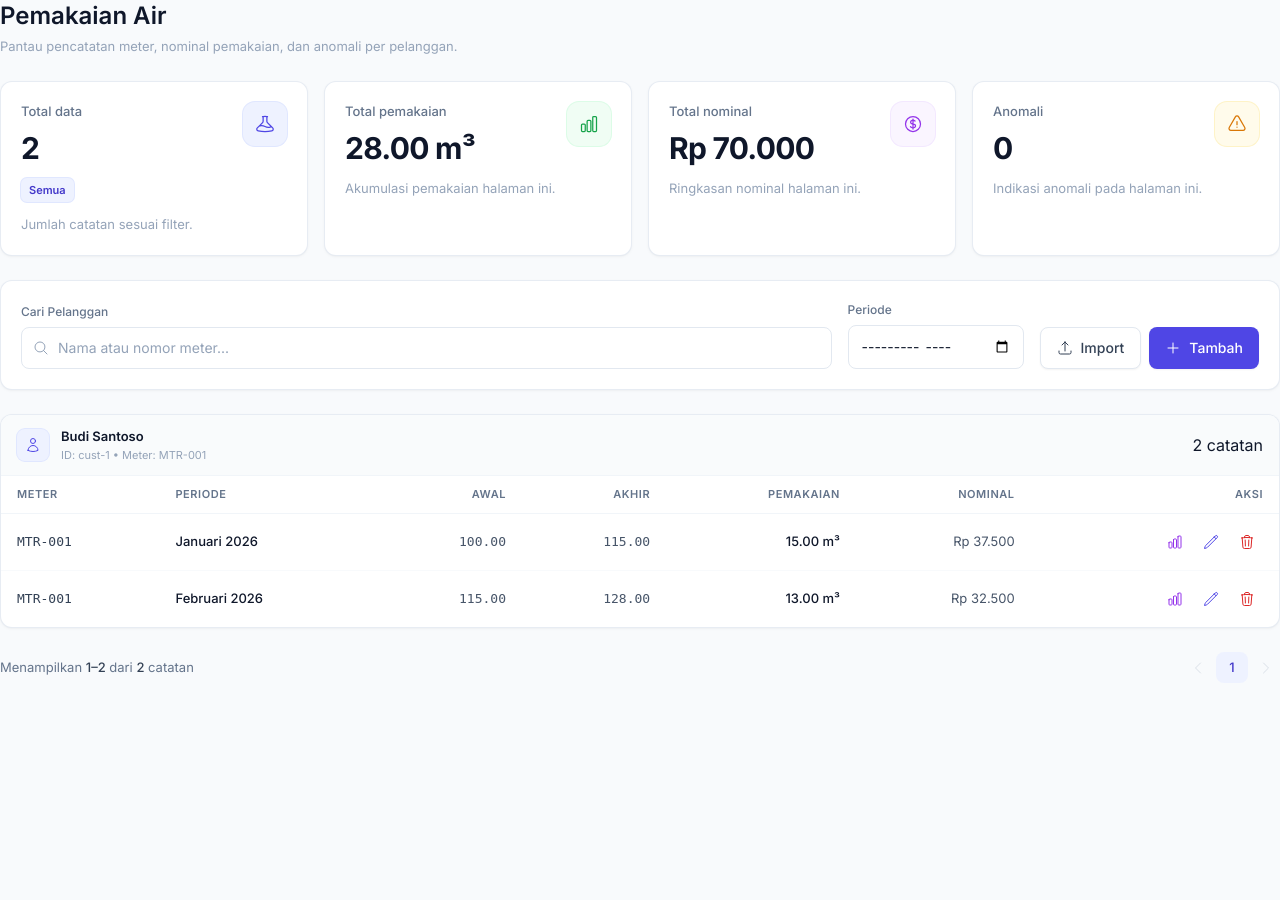
Test: UsageList › membuka confirm modal saat tombol hapus diklik
This screenshot has width=1280, height=900.
Expected: the text "Budi Santoso" is shown, [61,428,144,444]
Click the 1st button named "hapus": [1247, 542] box [1231,526,1263,558]
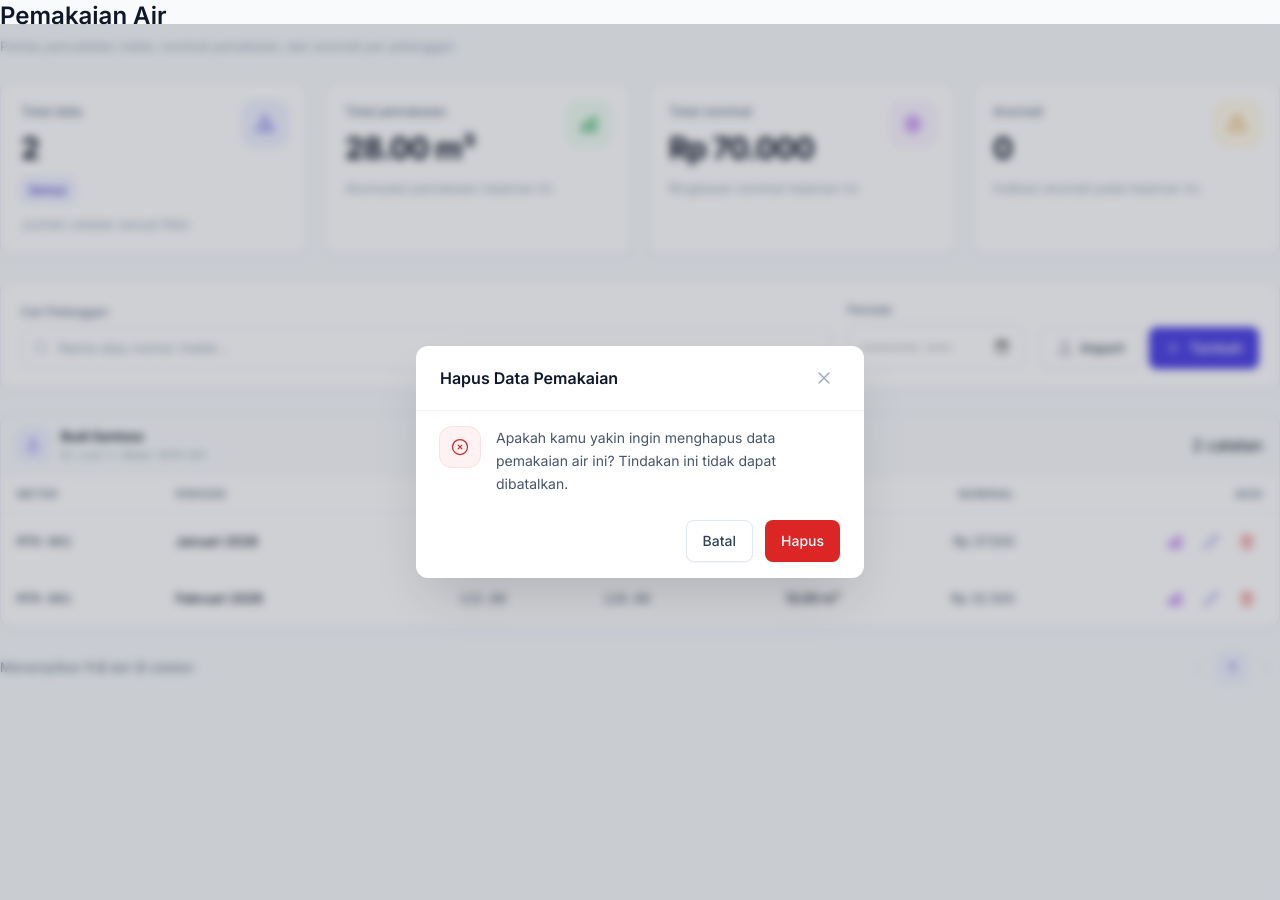
Expected: the dialog is shown, [416,346,864,578]
